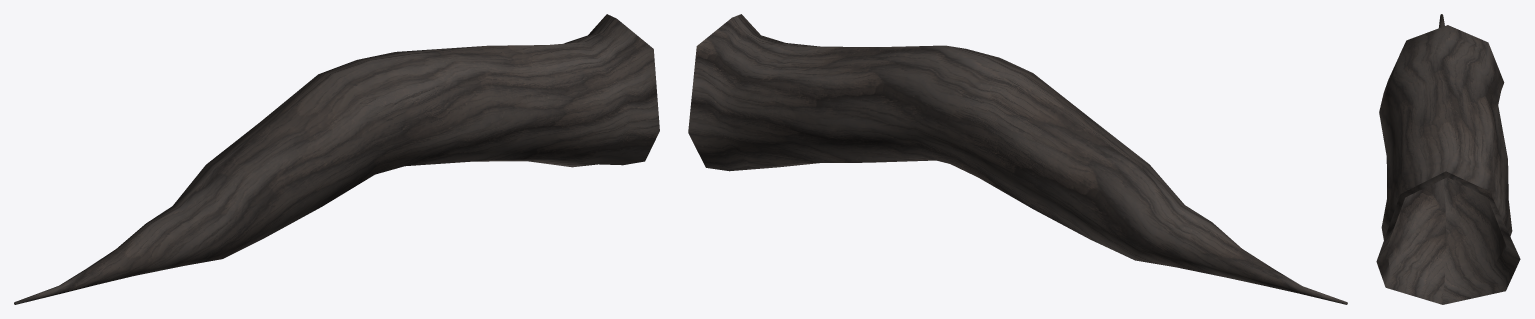
Rendered from Wurzel_05.fbx.
3 views of the same model, side by side, from view 1: azimuth 30°, elevation 25°; view 2: azimuth 150°, elevation 25°; view 3: azimuth 270°, elevation 25° (orthographic). The views are drawn at different scales.
Visible parts, largest first — view 1: wurzel_05; view 2: wurzel_05; view 3: wurzel_05.
Part boxes in pixels (<box>): wurzel_05: <box>14,14,659,304</box>; wurzel_05: <box>688,14,1347,304</box>; wurzel_05: <box>1376,14,1520,304</box>.
Bounding box in the file's own units: 16.76 × 4.09 × 3.45.
